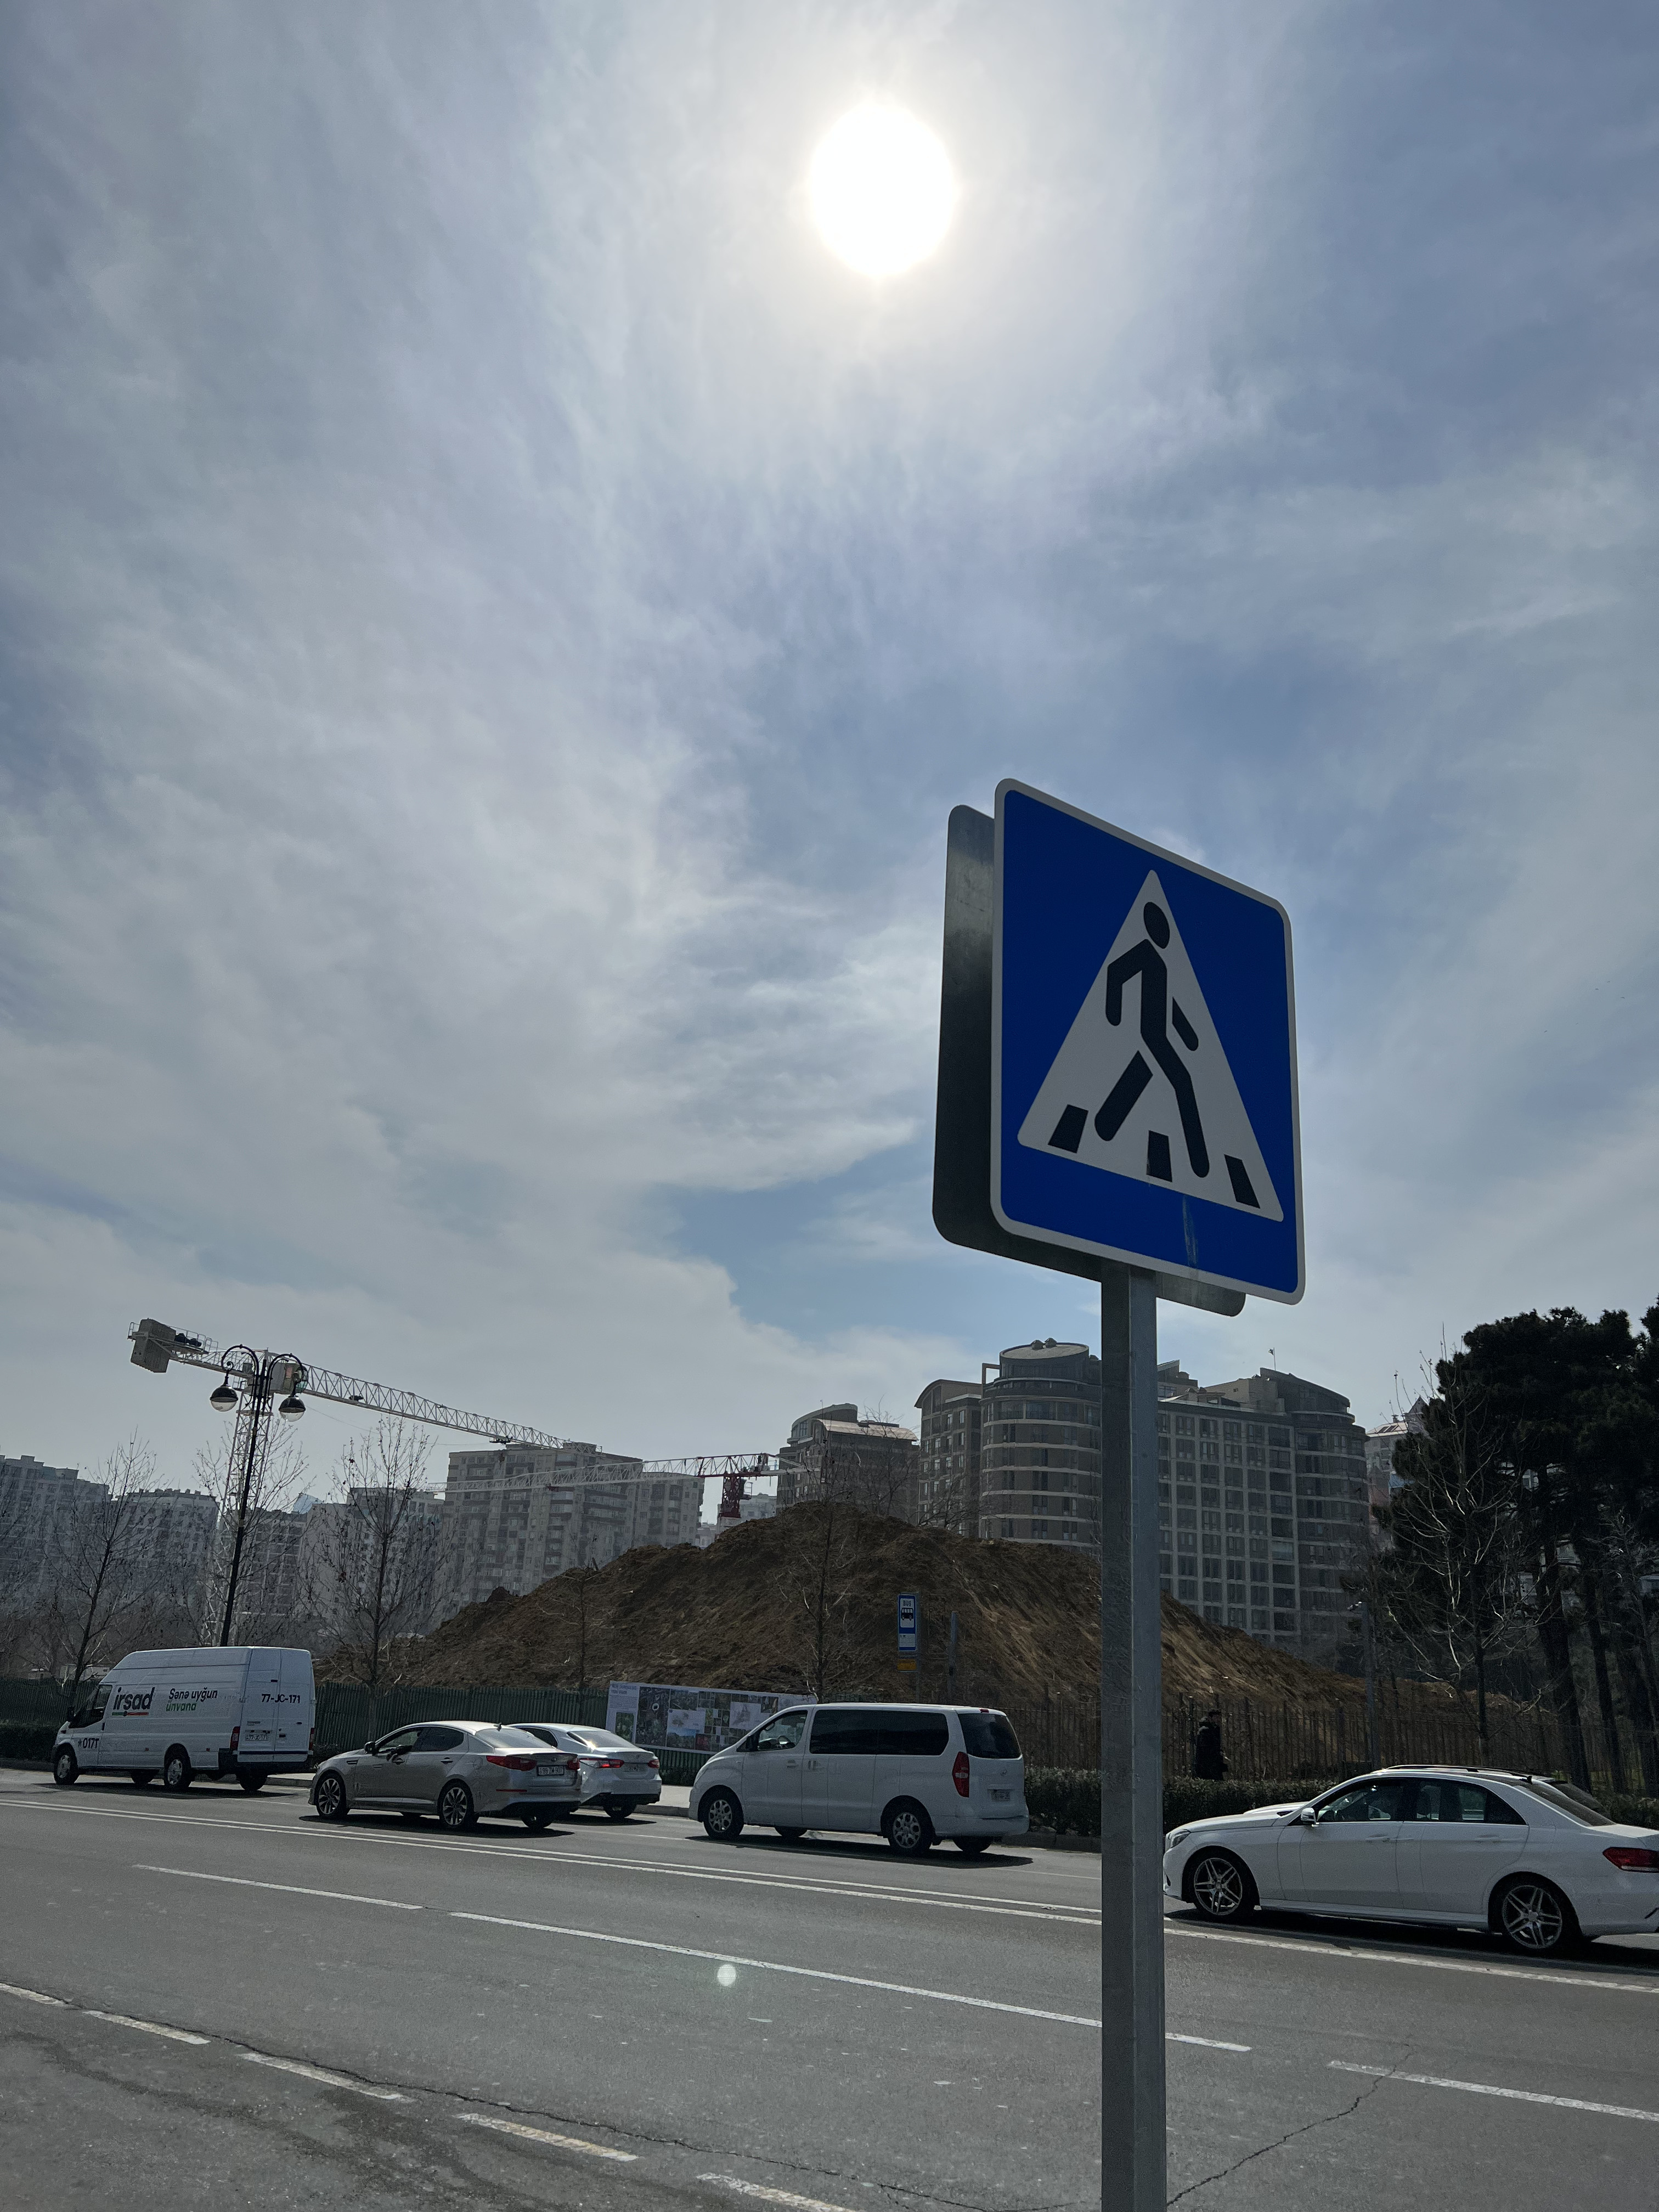Pedestrian Crossing: (993, 782, 1307, 1305)
